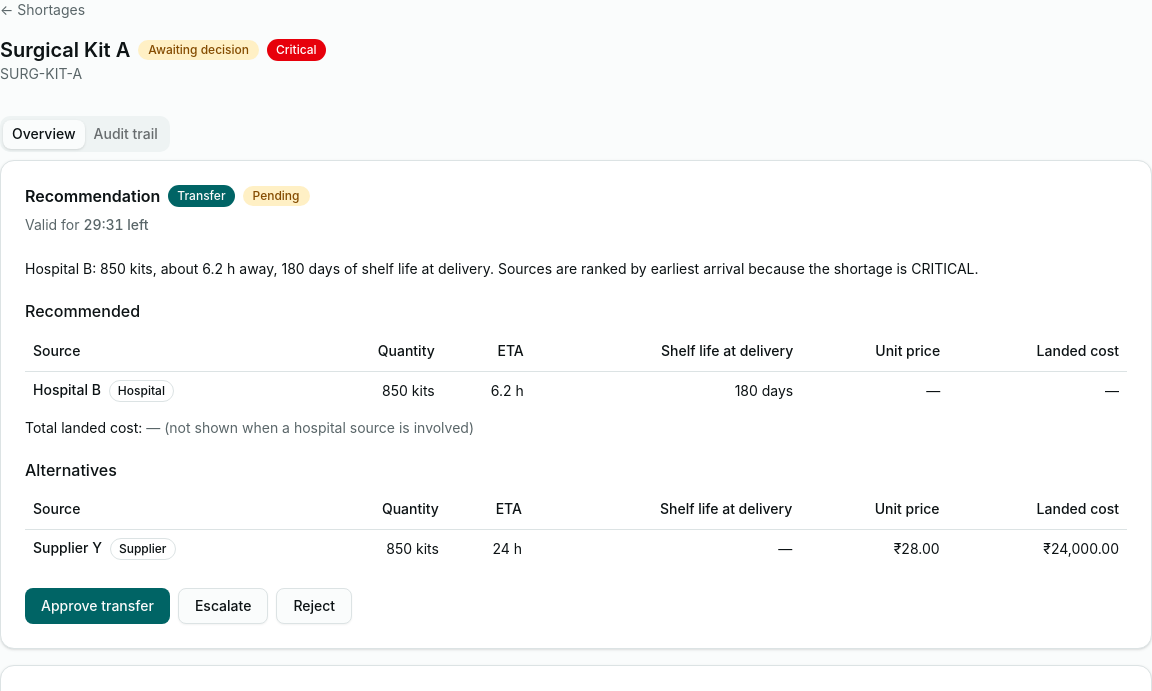
Test: Decision panel › rejects with the typed reason
The image size is (1152, 691).
Click the button "Reject" at (314, 606), box [276, 588, 352, 624]
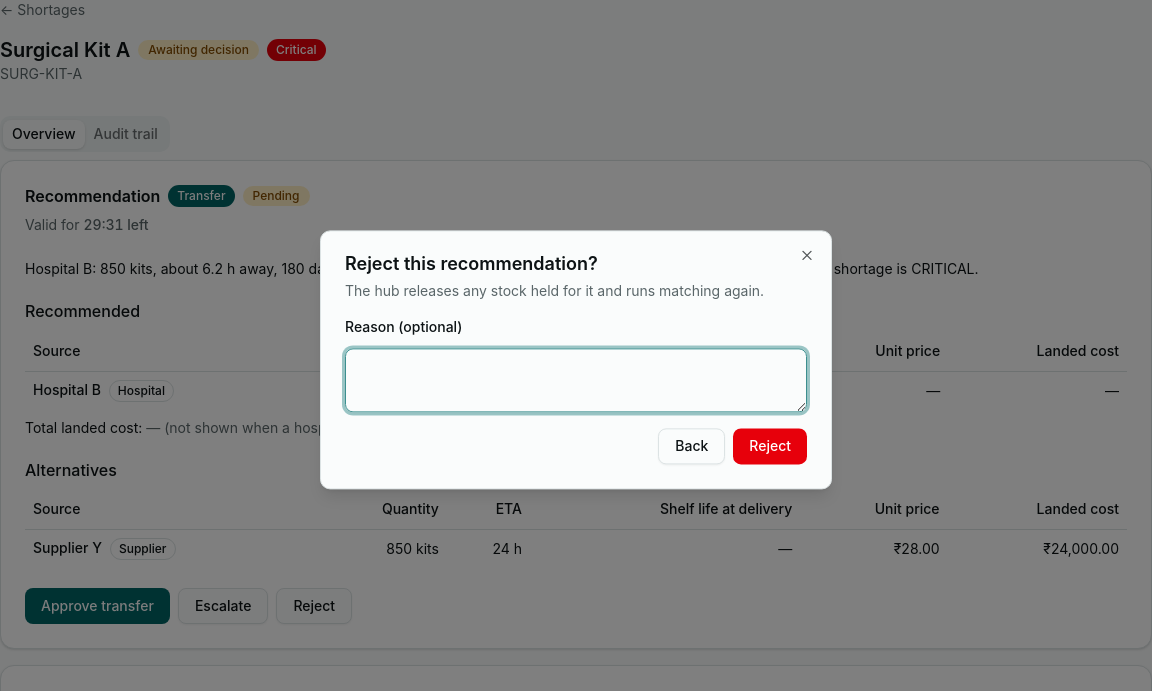
Type "Supplier is cheaper this week" into the text box labelled "Reason (optional)" at (576, 381), box [345, 349, 807, 413]
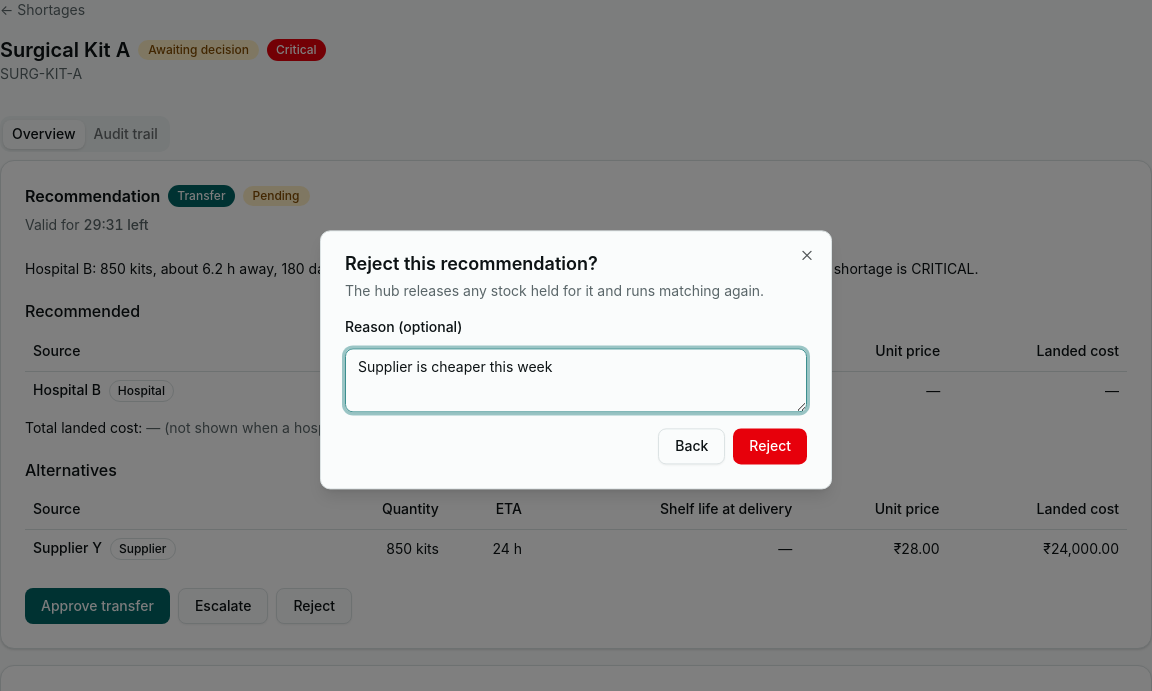
Click the button "Reject" at (770, 447), box [733, 429, 807, 465]
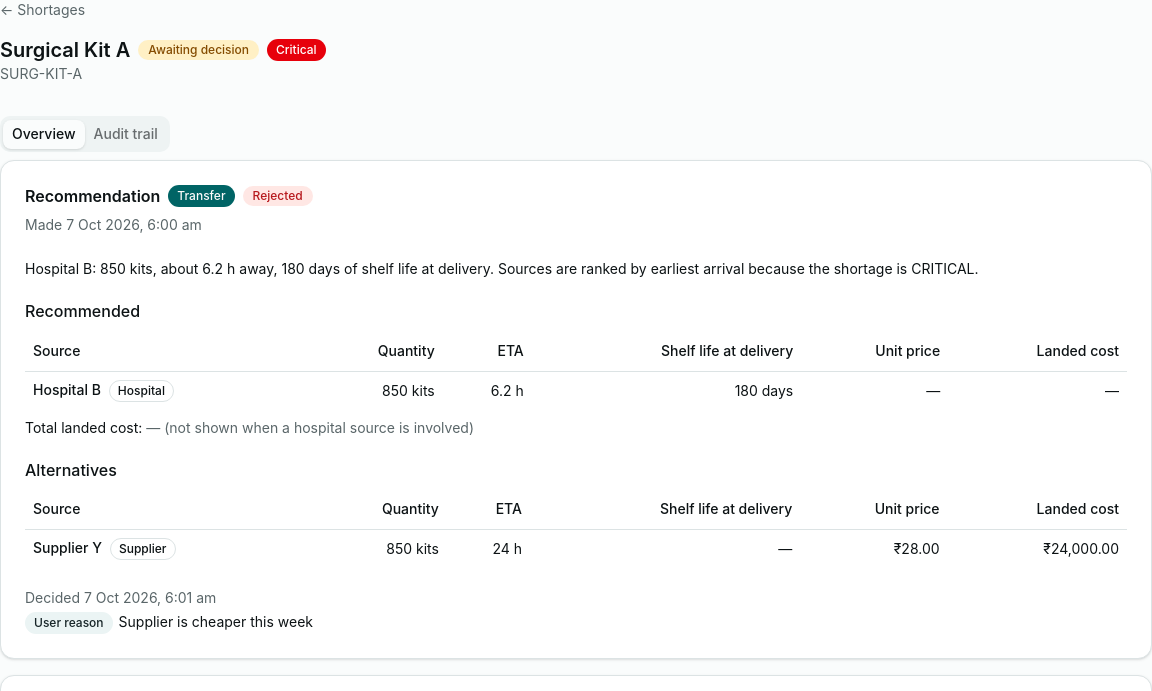
Expected: the text "Rejected" is shown, [242, 186, 313, 206]
Expected: the element with test id "recorded-reason" reads "User reason Supplier is cheaper this week", [25, 612, 313, 634]
